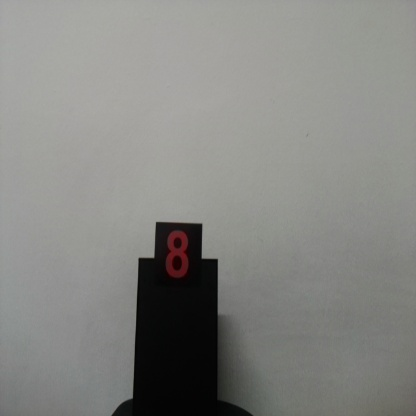id_8: (156, 221, 202, 303)
